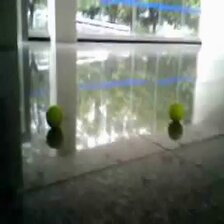tennis: (168, 102, 185, 121), (47, 105, 62, 126)
